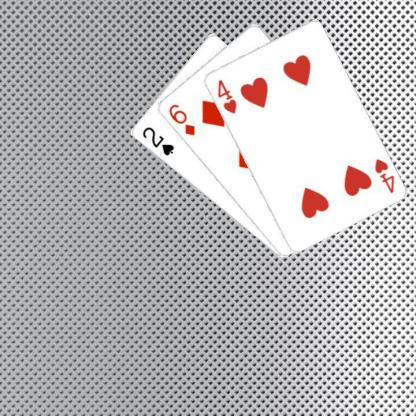2S: (139, 124, 175, 157)
4H: (372, 156, 395, 195), (214, 77, 237, 115)
6D: (166, 101, 196, 137)
